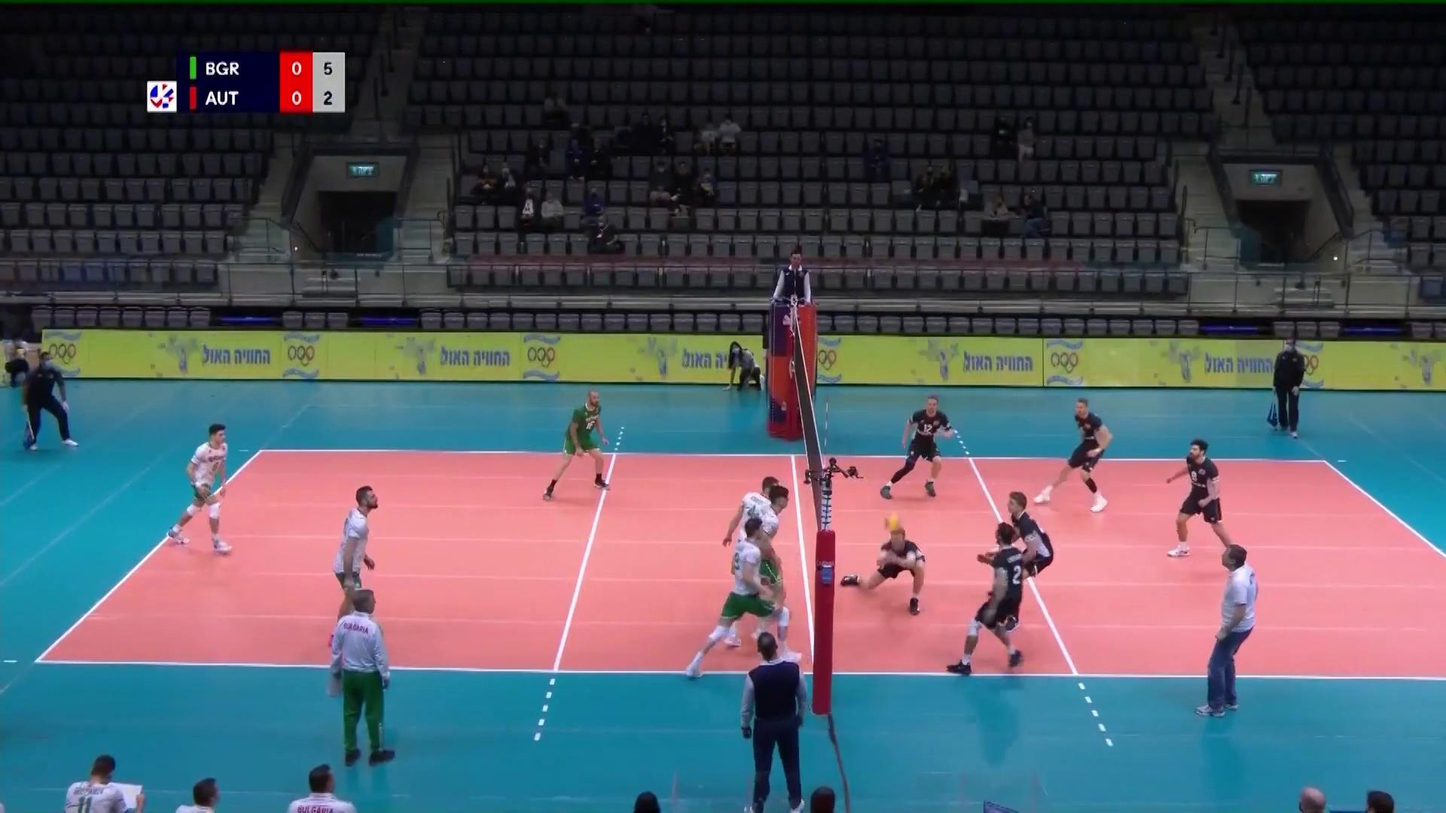ball: (887, 511, 902, 531)
